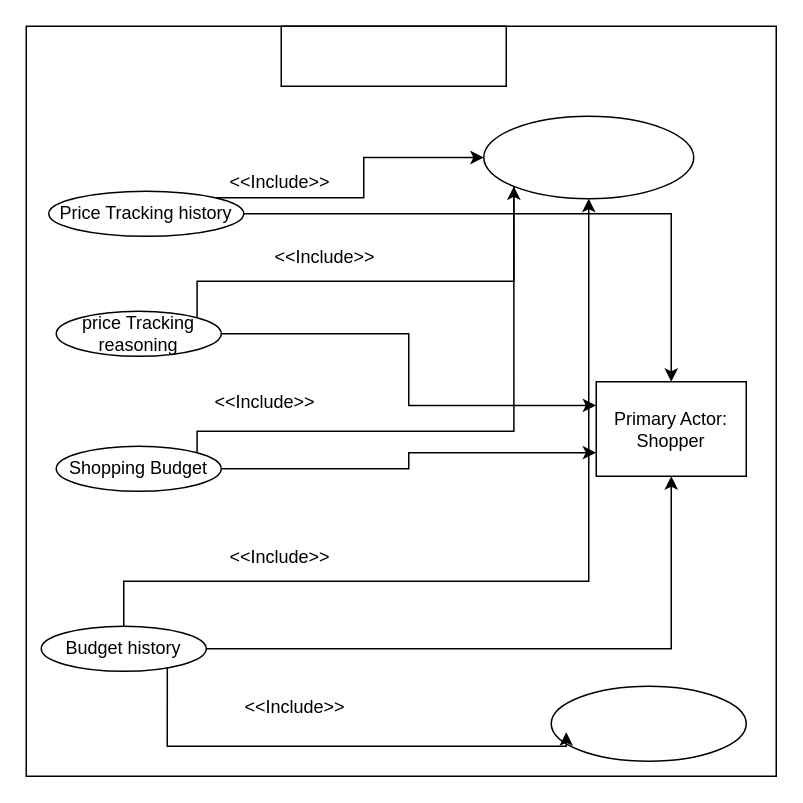
Some shapes in this 803 by 803 pixel diagram are drawn without their labels. The shapes that lost their labels are listed below. From the top down, each one's box as (x1, y1, x2, y2) in pixels, then its label:
(280, 25, 506, 86): Use Case Diagram
(482, 115, 694, 199): Registered Active account
(550, 685, 746, 761): Budget per month
